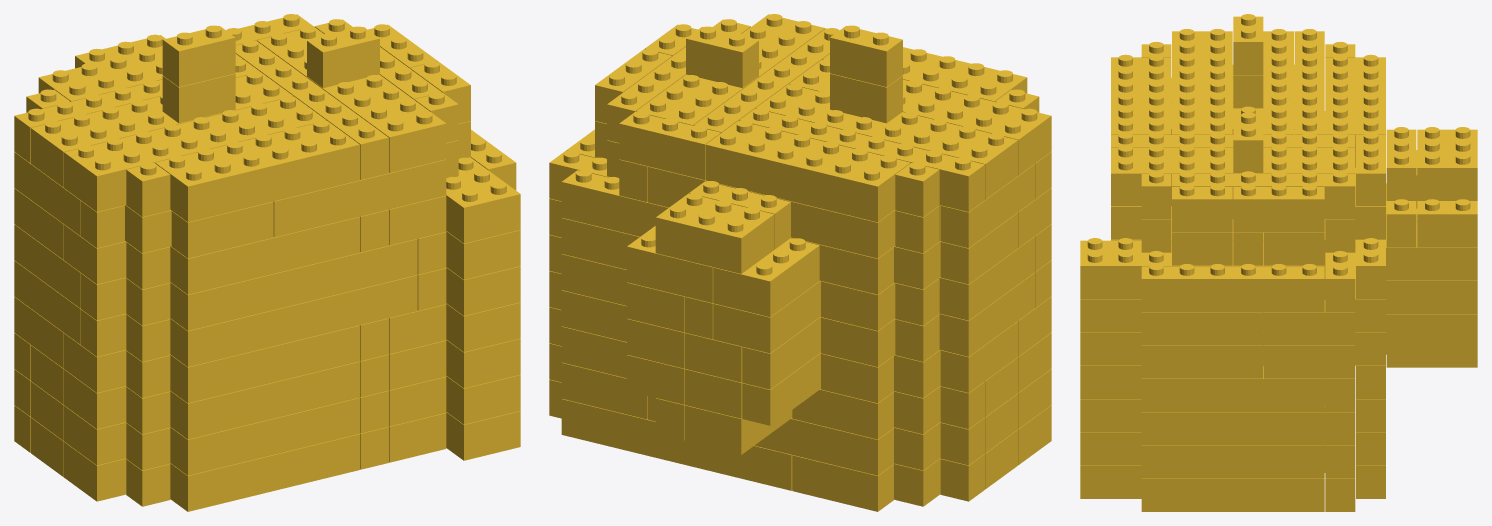
3 views of the same model, side by side, from view 1: azimuth 30°, elevation 25°; view 2: azimuth 150°, elevation 25°; view 3: azimuth 270°, elevation 25° (orthographic). The views are drawn at different scales.
Parts seen in each view (by area): view 1: camera_L2_P1_G; view 2: camera_L2_P1_G; view 3: camera_L2_P1_G.
Boxes of the visible parts, box(x1,y1,x2,y2) form: camera_L2_P1_G: box(14, 14, 520, 511); camera_L2_P1_G: box(549, 14, 1051, 511); camera_L2_P1_G: box(1080, 14, 1477, 511).
Bounding box in the file's own units: 13.97 × 13.39 × 12.97.
